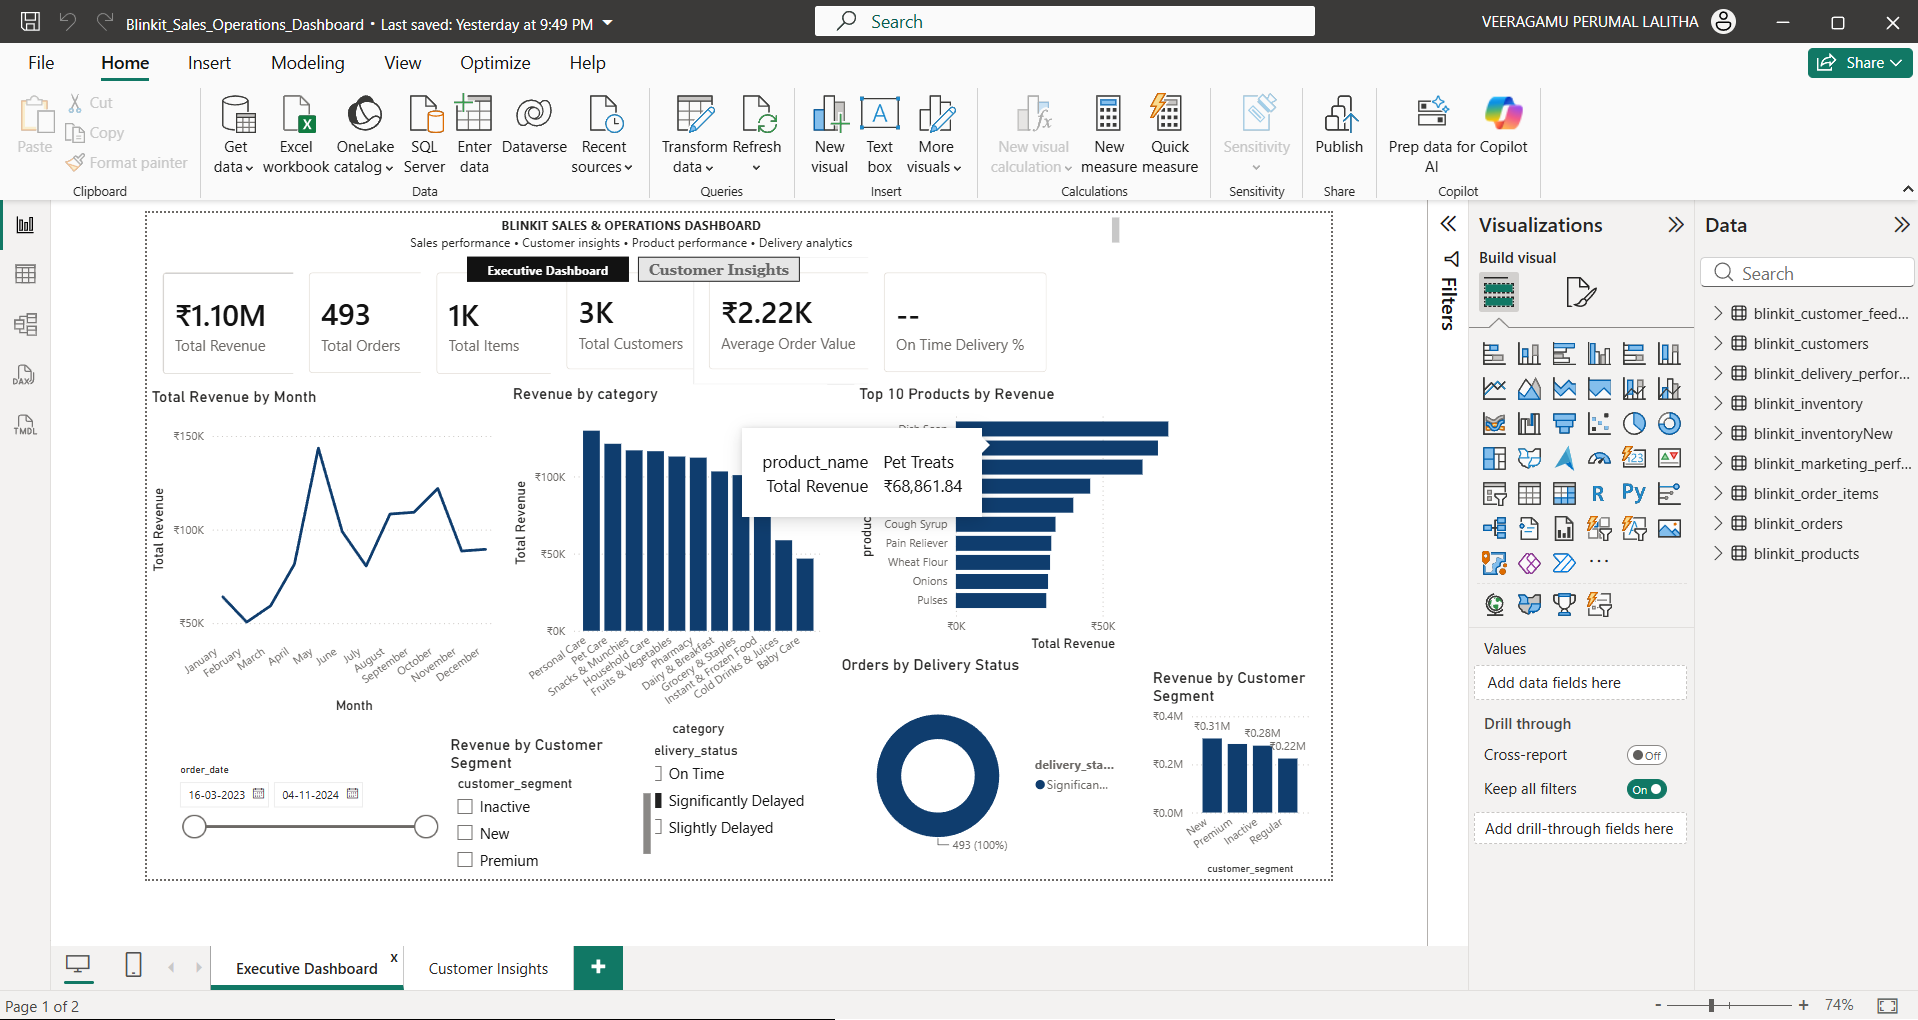

Layout of this report page (visuals, bound fields, positions):
{"tool":"powerbi","page":{"name":"Executive Dashboard","canvas":[1280,720],"ordinal":0},"visuals":[{"type":"cardVisual","fields":{"Data":["blinkit_orders.Total Revenue"]},"box":[0,47.4,184.2,144.7],"z":1000},{"type":"cardVisual","fields":{"Data":["blinkit_orders.Total Orders"]},"box":[158.6,47.4,163.2,143.4],"z":2000},{"type":"cardVisual","fields":{"Data":["blinkit_orders.Total Items"]},"box":[296.2,47.4,165.8,144.7],"z":3000},{"type":"cardVisual","fields":{"Data":["blinkit_orders.Total Customers"]},"box":[436.4,47.4,180.3,139.5],"z":4000},{"type":"cardVisual","fields":{"Data":["blinkit_orders.Average Order Value"]},"box":[591.1,47.4,214.5,139.5],"z":5000},{"type":"lineChart","fields":{"Category":["blinkit_orders.order_date.Variation.Date Hierarchy.Month","blinkit_orders.order_date.Variation.Date Hierarchy.Day"],"Y":["blinkit_orders.Total Revenue"]},"box":[0,188.2,381.6,357.9],"z":5001},{"type":"clusteredColumnChart","title":"Revenue by category","fields":{"Category":["blinkit_products.category"],"Y":["blinkit_orders.Total Revenue"]},"box":[390.8,185.5,344.7,385.5],"z":5002},{"type":"clusteredBarChart","title":"Top 10 Products by Revenue","fields":{"Category":["blinkit_products.product_name"],"Y":["blinkit_orders.Total Revenue"]},"box":[765.2,184.8,382.6,293.5],"z":5003},{"type":"donutChart","title":"Orders by Delivery Status","fields":{"Category":["blinkit_orders.delivery_status"],"Y":["CountNonNull(blinkit_orders.order_id)"]},"box":[745.7,478.3,308.7,241.3],"z":5004},{"type":"cardVisual","fields":{"Data":["blinkit_customer_feedback.On Time Delivery %"]},"box":[780,47.4,210,142.2],"z":5005},{"type":"clusteredColumnChart","title":"Revenue by Customer Segment","fields":{"Category":["blinkit_customers.customer_segment"],"Y":["blinkit_orders.Total Revenue"]},"box":[1082.6,491.3,178.3,228.3],"z":5006},{"type":"textbox","box":[0,0,1056.2,47.9],"z":5008},{"type":"slicer","fields":{"Values":["blinkit_orders.delivery_status"]},"box":[527.6,567.1,211.8,148.7],"z":5009},{"type":"slicer","title":"Revenue by Customer Segment","fields":{"Values":["blinkit_customers.customer_segment"]},"box":[322.4,564.5,226.3,155.3],"z":5010},{"type":"slicer","fields":{"Values":["blinkit_orders.order_date"]},"box":[22.4,590.8,300,118.4],"z":5011},{"type":"pageNavigator","box":[345.8,47.9,360.4,27.1],"z":5012}]}

Visuals, with their boxes on the page's 1280x720 design canvas (x1, y1, x2, y2). These are canvas units, not pixel positions in the 1918x1020 screenshot, which may show the page scaled, cropped or inside an application window:
cardVisual - blinkit_orders.Total Revenue: pyautogui.locateOnScreen(0, 47, 184, 192)
cardVisual - blinkit_orders.Total Orders: pyautogui.locateOnScreen(159, 47, 322, 191)
cardVisual - blinkit_orders.Total Items: pyautogui.locateOnScreen(296, 47, 462, 192)
cardVisual - blinkit_orders.Total Customers: pyautogui.locateOnScreen(436, 47, 617, 187)
cardVisual - blinkit_orders.Average Order Value: pyautogui.locateOnScreen(591, 47, 806, 187)
lineChart - blinkit_orders.order_date.Variation.Date Hierarchy.Month x blinkit_orders.order_date.Variation.Date Hierarchy.Day: pyautogui.locateOnScreen(0, 188, 382, 546)
"Revenue by category" clusteredColumnChart: pyautogui.locateOnScreen(391, 186, 736, 571)
"Top 10 Products by Revenue" clusteredBarChart: pyautogui.locateOnScreen(765, 185, 1148, 478)
"Orders by Delivery Status" donutChart: pyautogui.locateOnScreen(746, 478, 1054, 720)
cardVisual - blinkit_customer_feedback.On Time Delivery %: pyautogui.locateOnScreen(780, 47, 990, 190)
"Revenue by Customer Segment" clusteredColumnChart: pyautogui.locateOnScreen(1083, 491, 1261, 720)
textbox: pyautogui.locateOnScreen(0, 0, 1056, 48)
slicer - blinkit_orders.delivery_status: pyautogui.locateOnScreen(528, 567, 739, 716)
"Revenue by Customer Segment" slicer: pyautogui.locateOnScreen(322, 564, 549, 720)
slicer - blinkit_orders.order_date: pyautogui.locateOnScreen(22, 591, 322, 709)
pageNavigator: pyautogui.locateOnScreen(346, 48, 706, 75)
